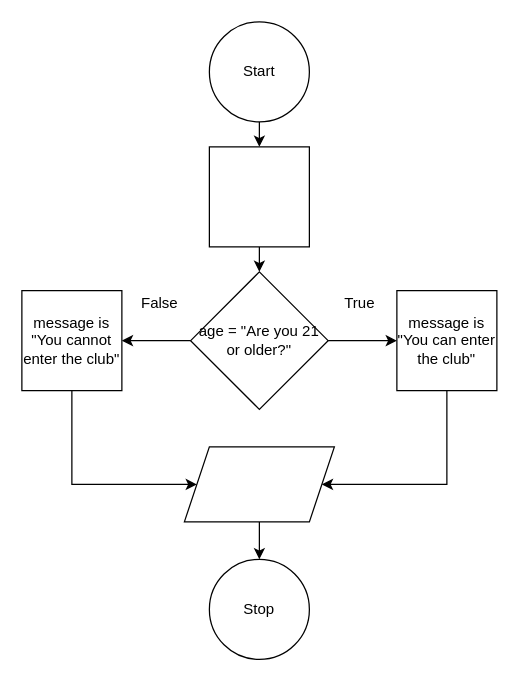
The diagram is 519 pixels wide and 681 high, and some of its shapes have lost their labels. The shapes that lost their labels are listed below. From the top down, each one's centre as x and y in pixels, then its label:
[258,196]: var age var message
[258,484]: output message
